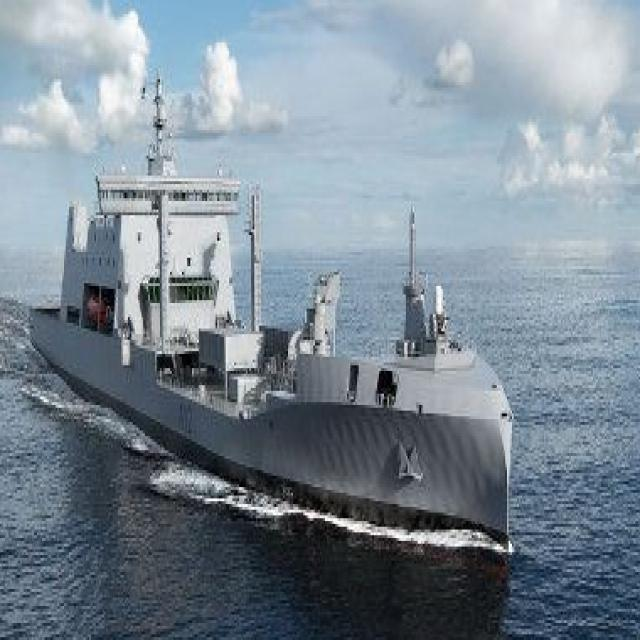navalvessels: (19, 138, 509, 540)
